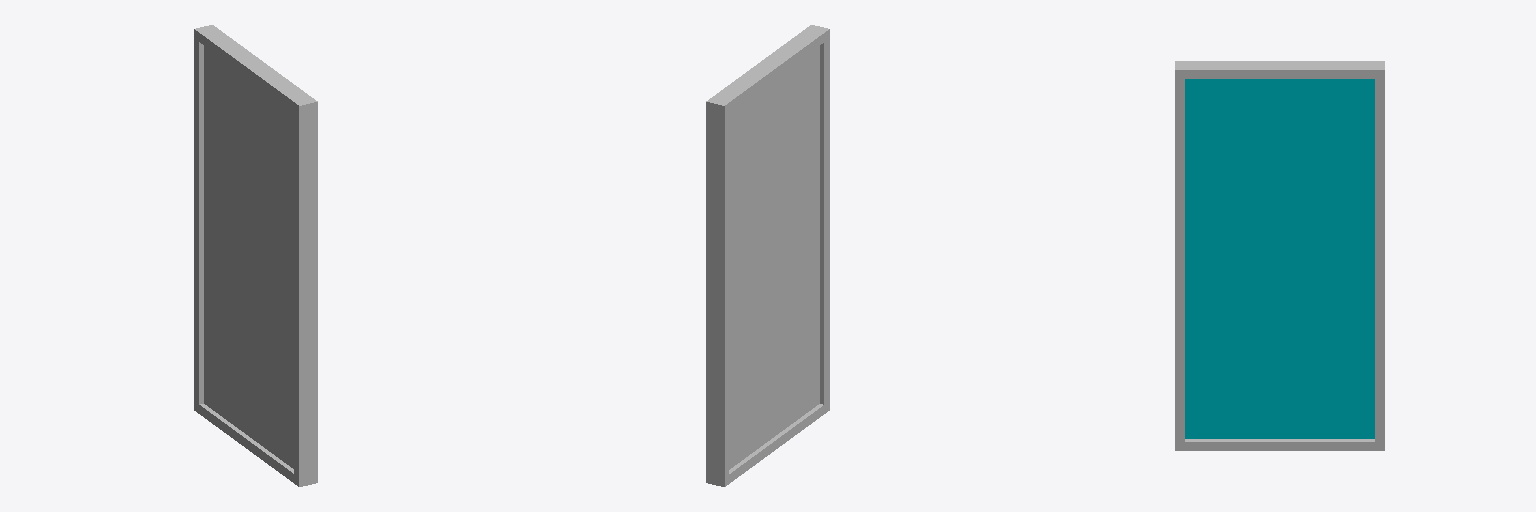
Rendered from Modular_Modern_2x4x0.1_One_Way_Glass_Pane1.obj.
3 views of the same model, side by side, from view 1: azimuth 30°, elevation 25°; view 2: azimuth 150°, elevation 25°; view 3: azimuth 270°, elevation 25° (orthographic).
Parts seen in each view (by area): view 1: Cube; view 2: Cube; view 3: Cube.
Boxes of the visible parts, x1,y1,x2,y2 form: Cube: [194, 25, 317, 486]; Cube: [706, 25, 829, 486]; Cube: [1175, 61, 1384, 450].
Bounding box in the file's own units: 0.2 × 4 × 2.